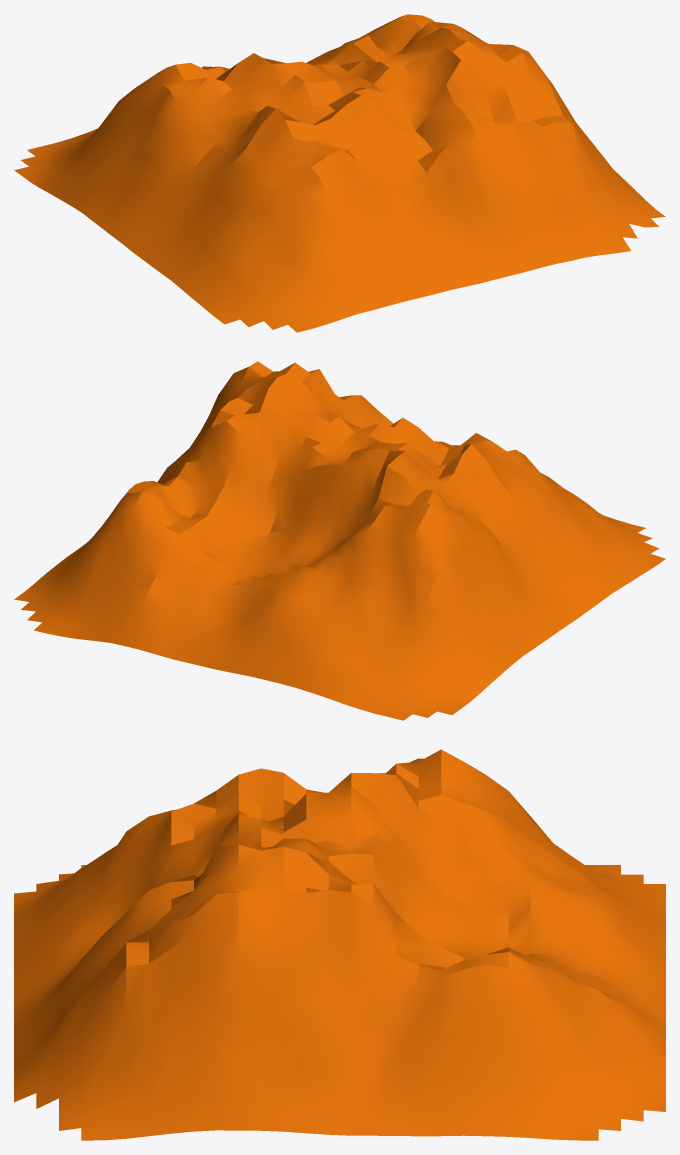
Rendered from montain2.fbx.
3 renders of one model, top to bottom at view 1: azimuth 30°, elevation 25°; view 2: azimuth 150°, elevation 25°; view 3: azimuth 270°, elevation 25°, orthographic. The views are drawn at different scales.
Parts seen in each view (by area): view 1: Landscape.002; view 2: Landscape.002; view 3: Landscape.002.
Boxes of the visible parts, left/top/right/bottom form: Landscape.002: left=14, top=14, right=665, bottom=332; Landscape.002: left=14, top=361, right=665, bottom=720; Landscape.002: left=14, top=749, right=665, bottom=1140.
Size of the model in its own units: 187 by 66.63 by 187.
